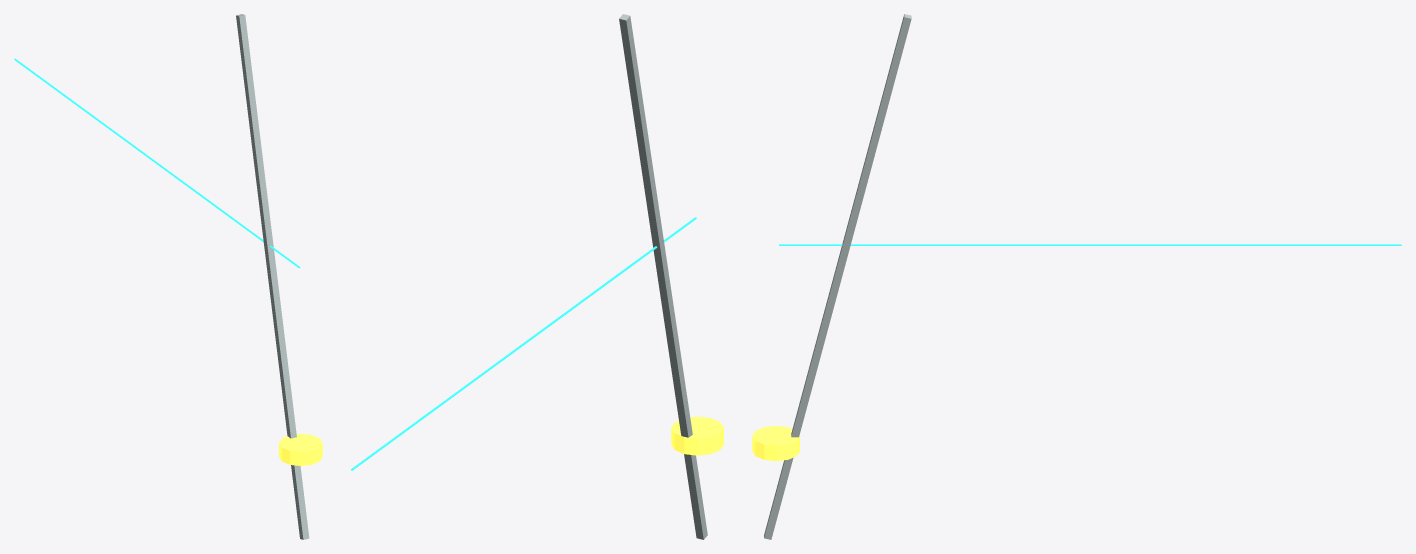
Rendered from PROP_fishing-rod_20261005.glb.
3 views of the same model, side by side, from view 1: azimuth 30°, elevation 25°; view 2: azimuth 150°, elevation 25°; view 3: azimuth 270°, elevation 25° (orthographic). The views are drawn at different scales.
Visible parts, largest first — view 1: PROP_FishingRod, PROP_FishingReel, PROP_FishingLine; view 2: PROP_FishingRod, PROP_FishingReel, PROP_FishingLine; view 3: PROP_FishingRod, PROP_FishingReel, PROP_FishingLine.
Part boxes in pixels (x1,y1,x2,y2): PROP_FishingRod: [236, 14, 309, 539]; PROP_FishingReel: [279, 433, 322, 465]; PROP_FishingLine: [14, 58, 300, 268]; PROP_FishingRod: [619, 14, 707, 539]; PROP_FishingReel: [671, 416, 723, 455]; PROP_FishingLine: [351, 217, 696, 470]; PROP_FishingRod: [764, 14, 911, 539]; PROP_FishingReel: [752, 426, 799, 461]; PROP_FishingLine: [779, 244, 1401, 245].
Bounding box in the file's own units: 0.17 × 2.06 × 2.32.
